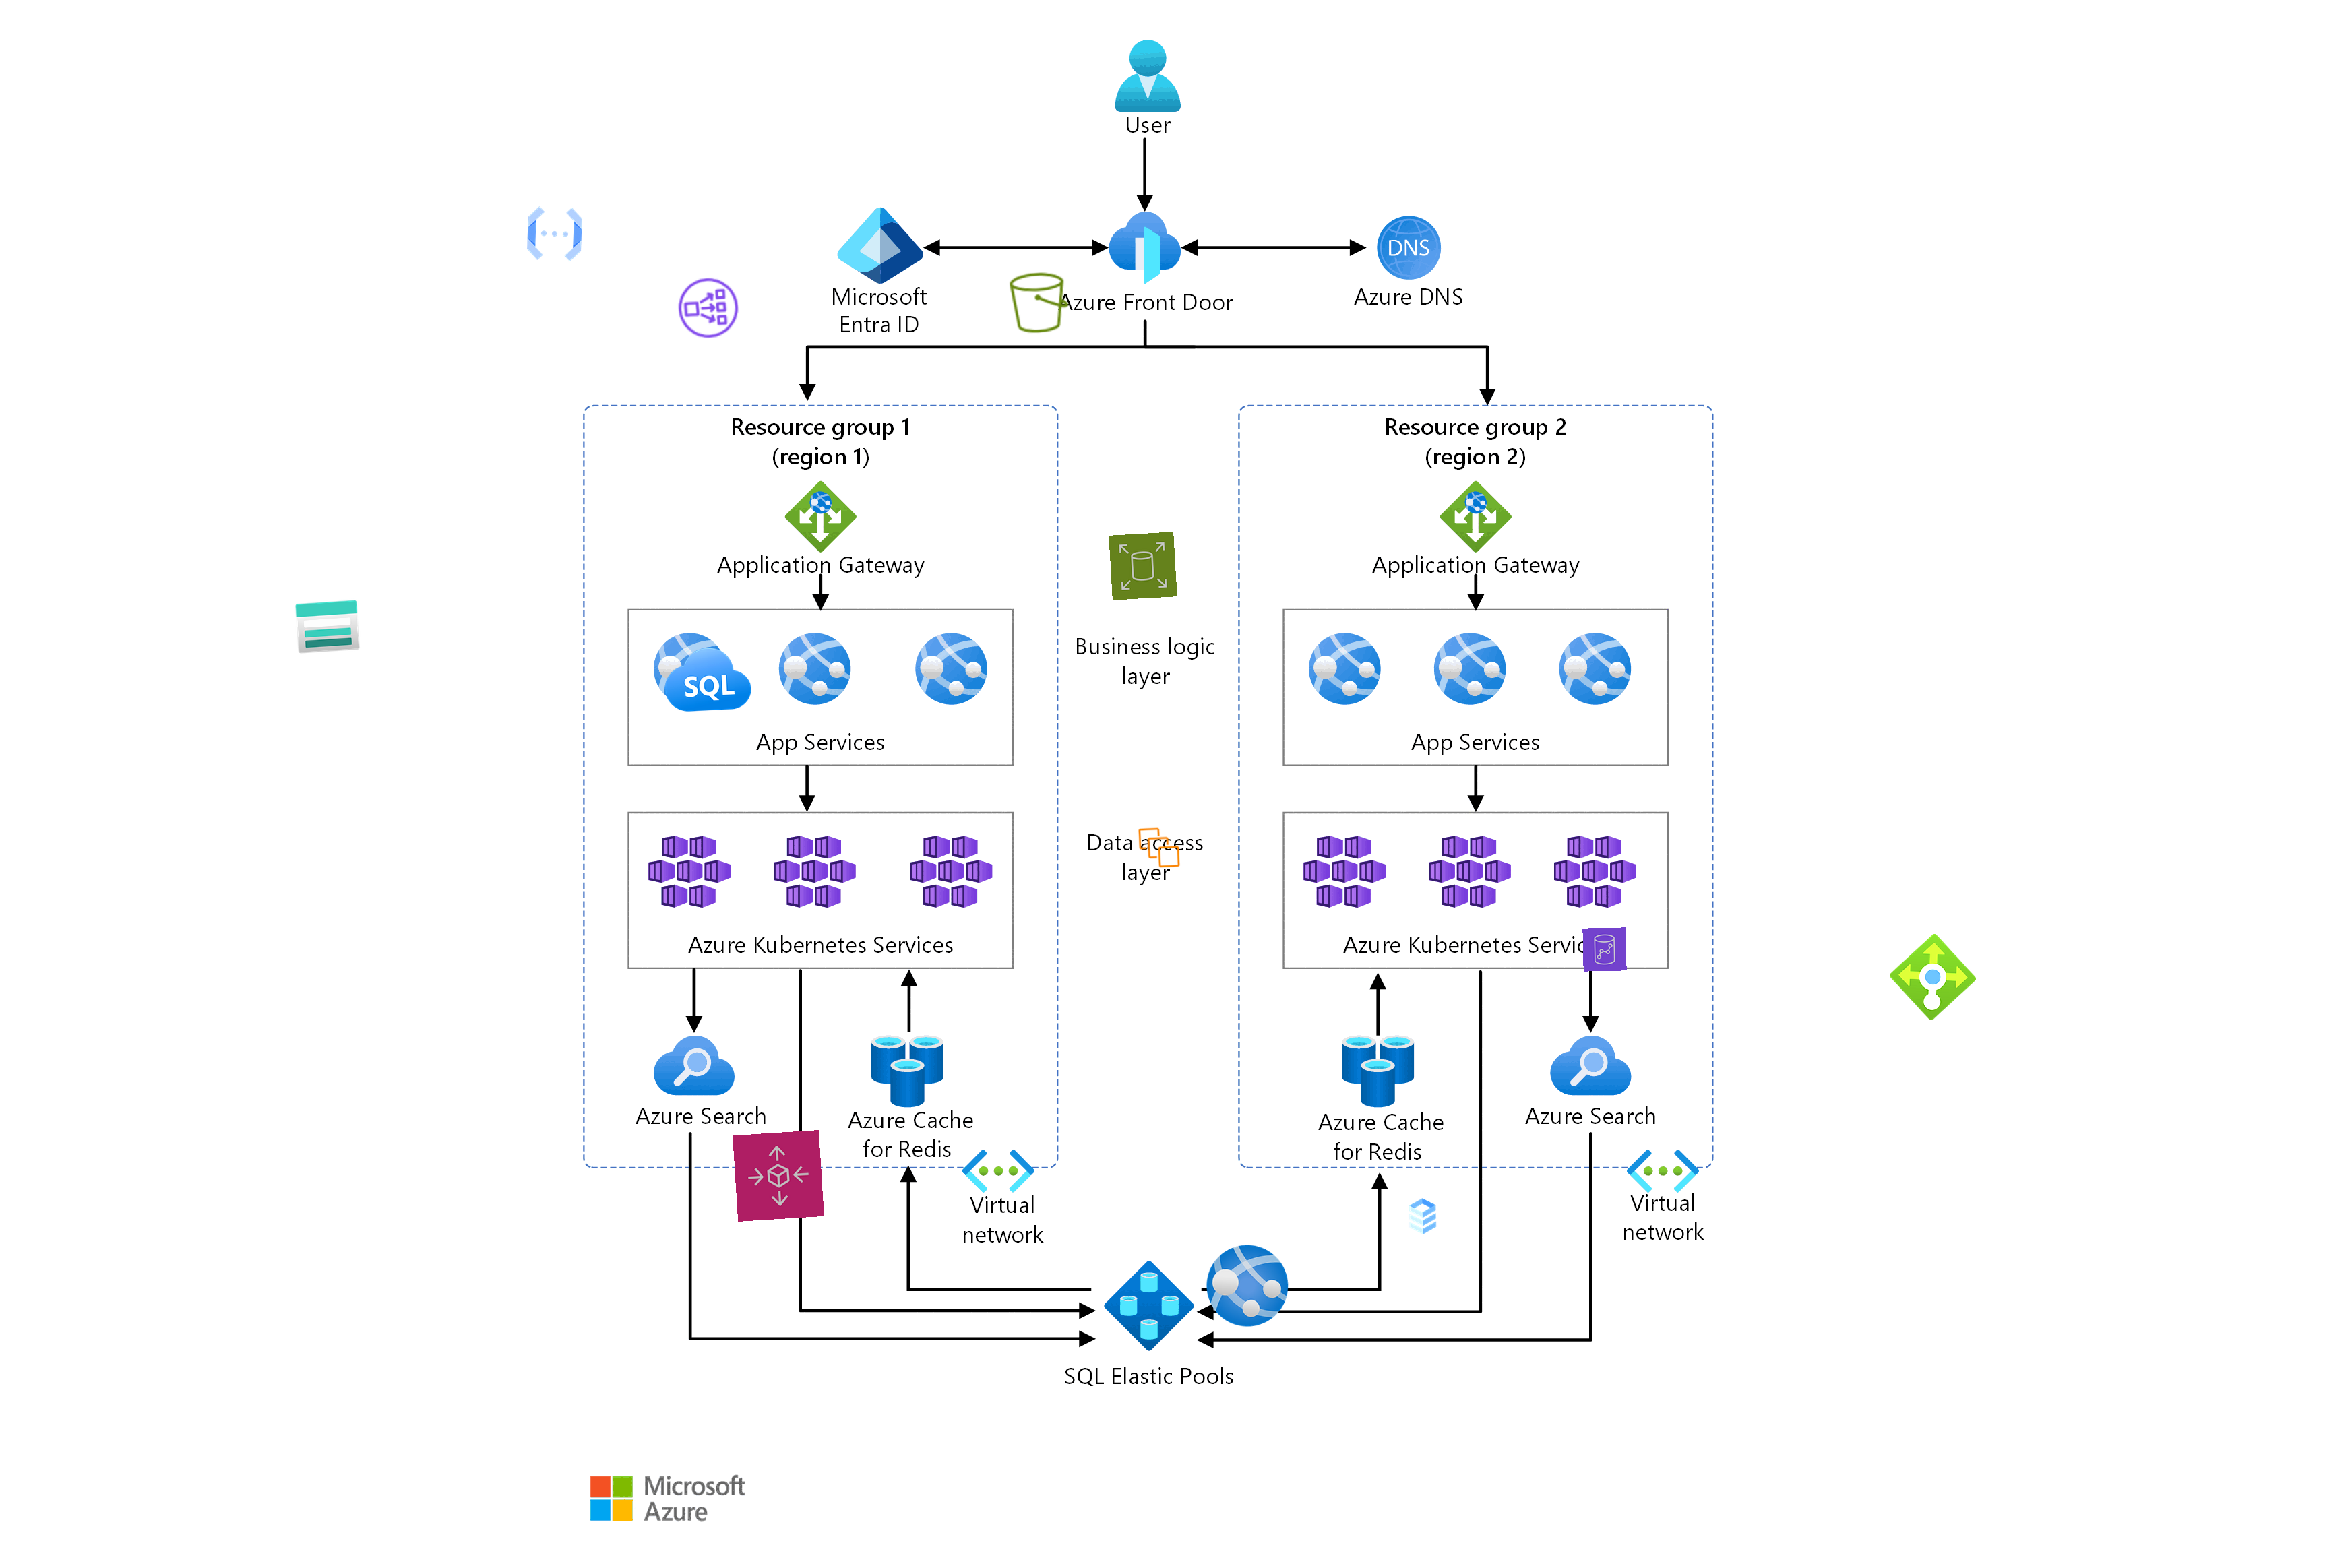aws_amazon_elastic_block_store: (1108, 532, 1178, 600)
aws_amazon_redshift: (1582, 928, 1627, 971)
aws_auto_scaling: (733, 1131, 824, 1221)
aws_ec2_instances: (1136, 824, 1181, 870)
aws_elastic_load_balancing_network_load_balancer: (674, 273, 744, 343)
aws_simple_storage_service_s3_standard: (1004, 268, 1073, 338)
azure_app_services: (1200, 1239, 1293, 1332)
azure_load_balancers: (1888, 933, 1977, 1022)
azure_sql: (661, 635, 754, 726)
azure_storage_accounts: (292, 591, 362, 661)
gcp_cloud_functions: (521, 200, 588, 268)
gcp_cloud_sql: (1400, 1194, 1445, 1239)
